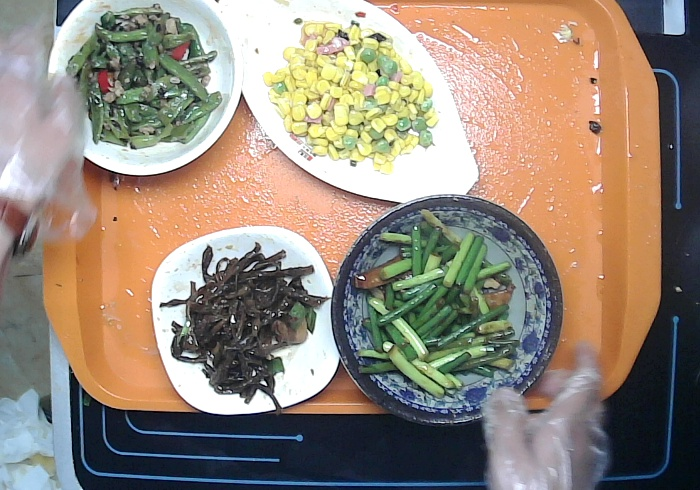ZNLD-Qing_Hua_Wan: (326, 186, 565, 432)
ZNLD-Si_Fang_Wan: (147, 222, 346, 418)
ZNLD-Tang_Wan: (44, 1, 248, 181)
ZNLD-Yu_Pan: (212, 1, 485, 211)
